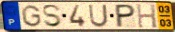4: (68, 4, 87, 28)
G: (20, 4, 43, 28)
H: (135, 4, 159, 29)
P: (115, 4, 137, 29)
S: (41, 4, 63, 29)
U: (88, 4, 110, 29)
